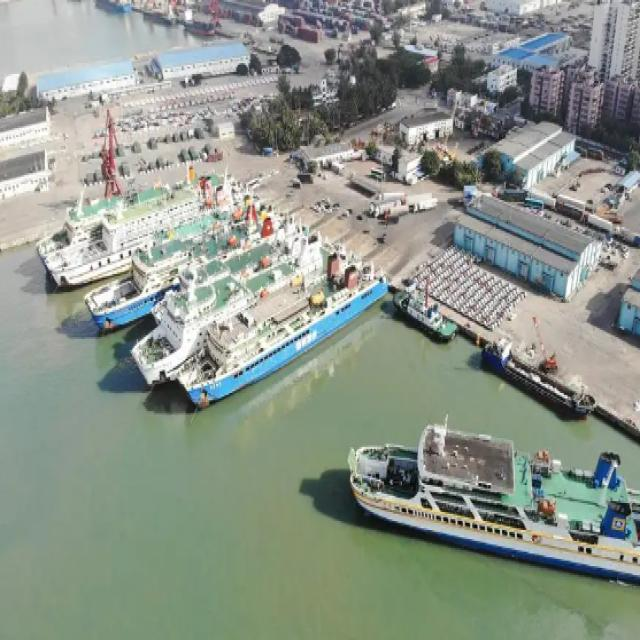fishing boat: (336, 383, 638, 575), (158, 275, 400, 400)
